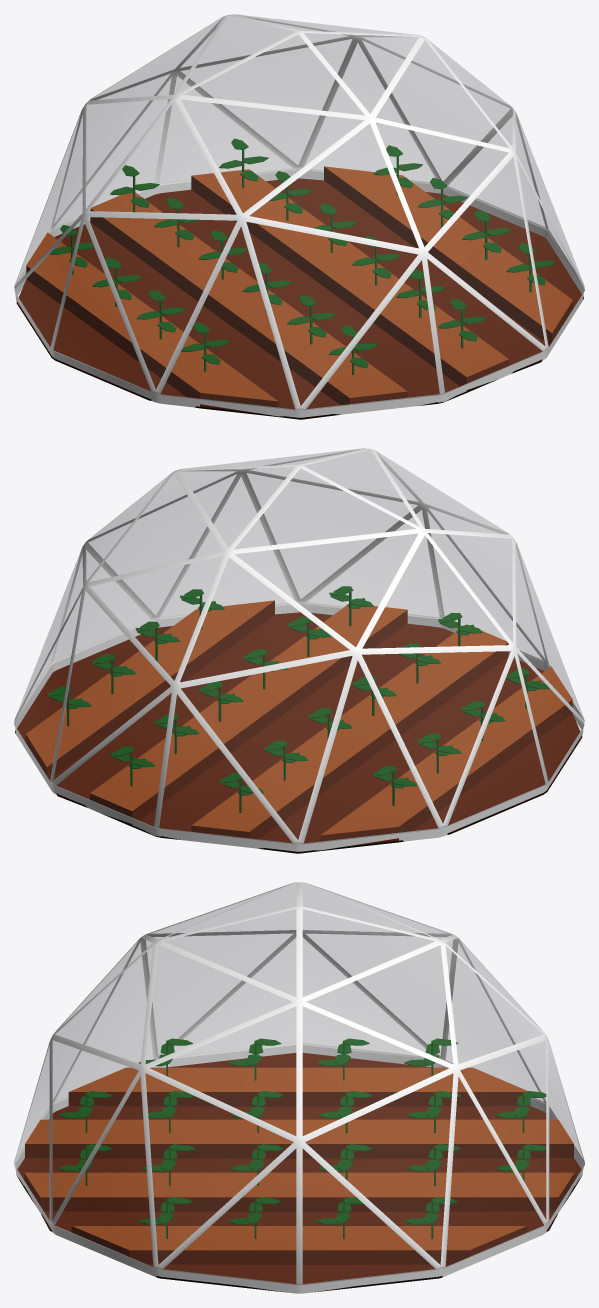
Rendered from potato-crop.fbx.
3 views of the same model, one above another, from view 1: azimuth 30°, elevation 25°; view 2: azimuth 150°, elevation 25°; view 3: azimuth 270°, elevation 25° (orthographic).
Parts seen in each view (by area): view 1: GeoSphere002, Box126; view 2: GeoSphere002, Box126; view 3: GeoSphere002, Box126.
Part boxes in pixels (x1,y1,x2,y2): GeoSphere002: [14, 14, 584, 417]; Box126: [16, 166, 583, 419]; GeoSphere002: [14, 448, 584, 851]; Box126: [15, 600, 582, 853]; GeoSphere002: [14, 882, 584, 1293]; Box126: [17, 1052, 581, 1292].
Size of the model in its own units: 7.49 by 3.86 by 7.49.
